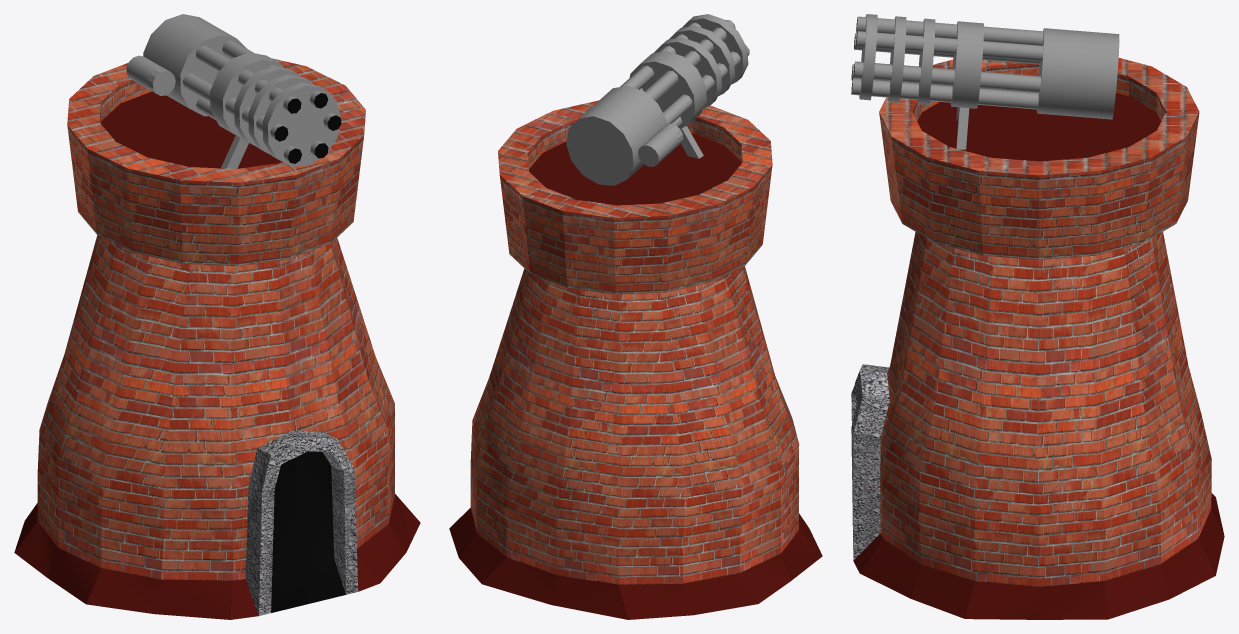
The model's file is 二階塔機關槍.FBX.
3 renders of one model, left to right at view 1: azimuth 30°, elevation 25°; view 2: azimuth 150°, elevation 25°; view 3: azimuth 270°, elevation 25°, orthographic. The views are drawn at different scales.
Parts seen in each view (by area): view 1: 基礎塔, 機關槍; view 2: 基礎塔, 機關槍; view 3: 基礎塔, 機關槍.
Boxes of the visible parts, x1,y1,x2,y2 form: 基礎塔: (14,58,420,619); 機關槍: (126,14,341,168); 基礎塔: (449,100,822,619); 機關槍: (566,14,749,185); 基礎塔: (851,58,1224,619); 機關槍: (851,14,1119,149).
Bounding box in the file's own units: 34.98 × 50.59 × 33.
6 materials, 2 textured.
